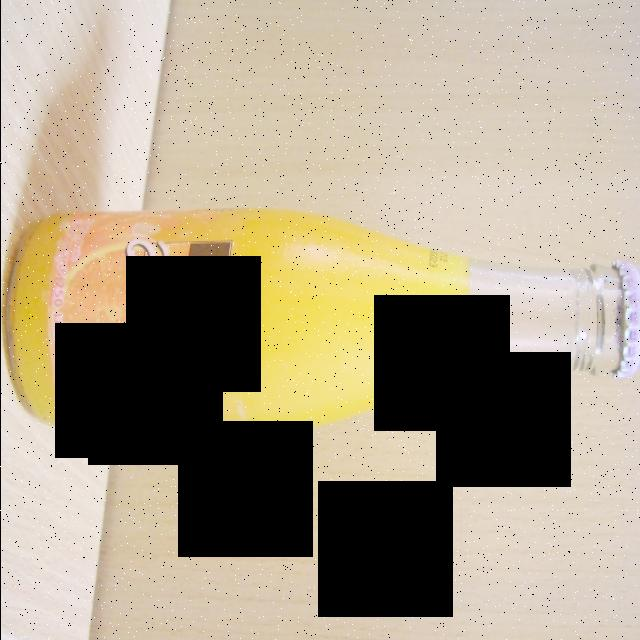glass-bottle: (1, 182, 640, 453)
